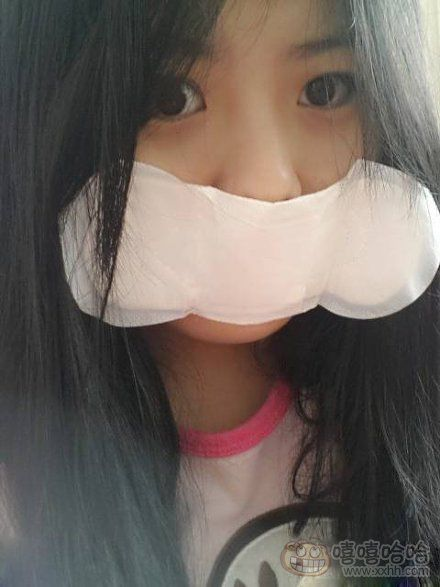face_mask: (104, 1, 378, 342)
